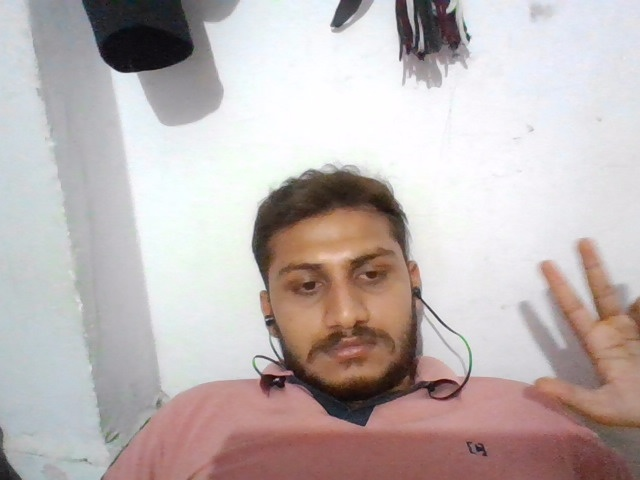ILoveYou: (515, 217, 640, 428)
